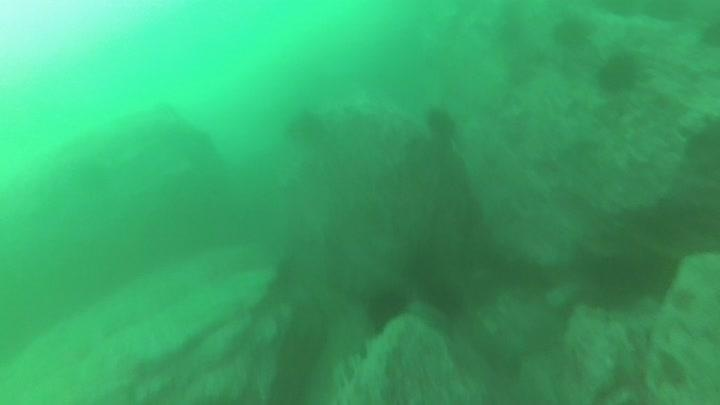echinus: (584, 249, 654, 311), (362, 284, 412, 334), (594, 50, 644, 97), (282, 107, 329, 147), (549, 13, 596, 51), (422, 105, 460, 142), (697, 18, 720, 51)
